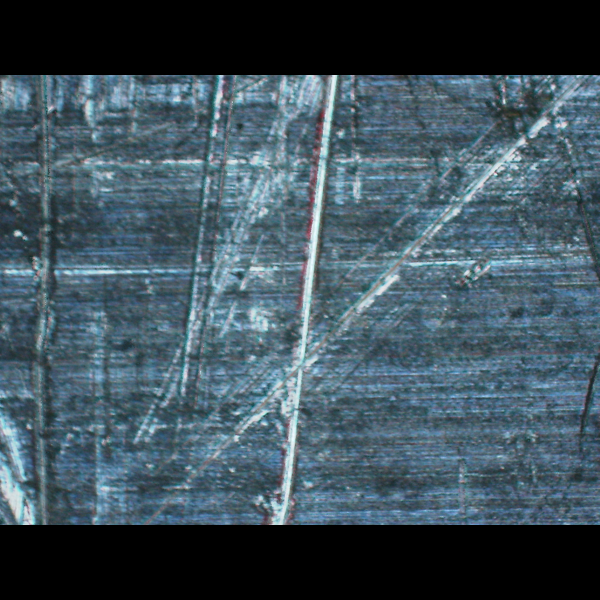d: (256, 75, 371, 524), (420, 74, 600, 291), (26, 77, 82, 524), (166, 75, 240, 408)
